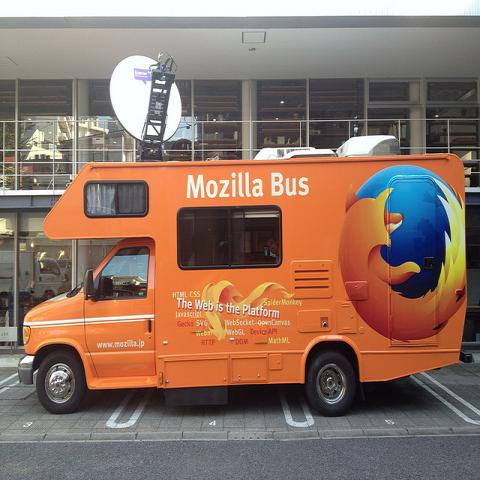bus: (19, 152, 468, 412)
truck: (13, 50, 471, 420)
